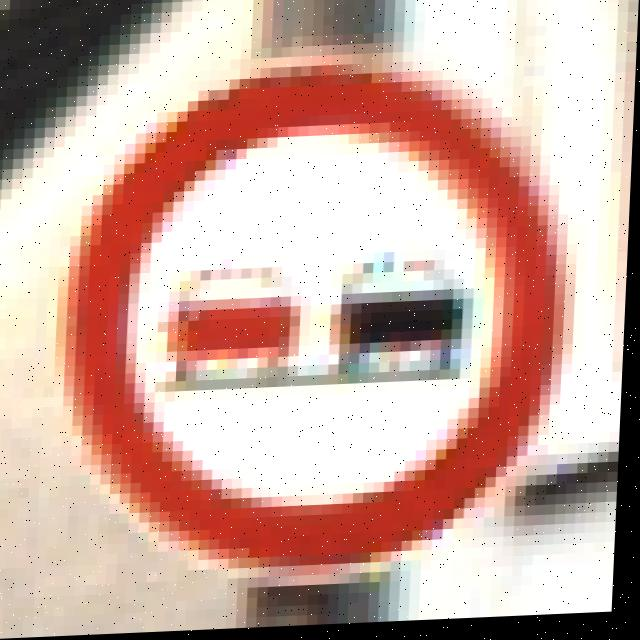no_overtaking: (68, 52, 552, 566)
